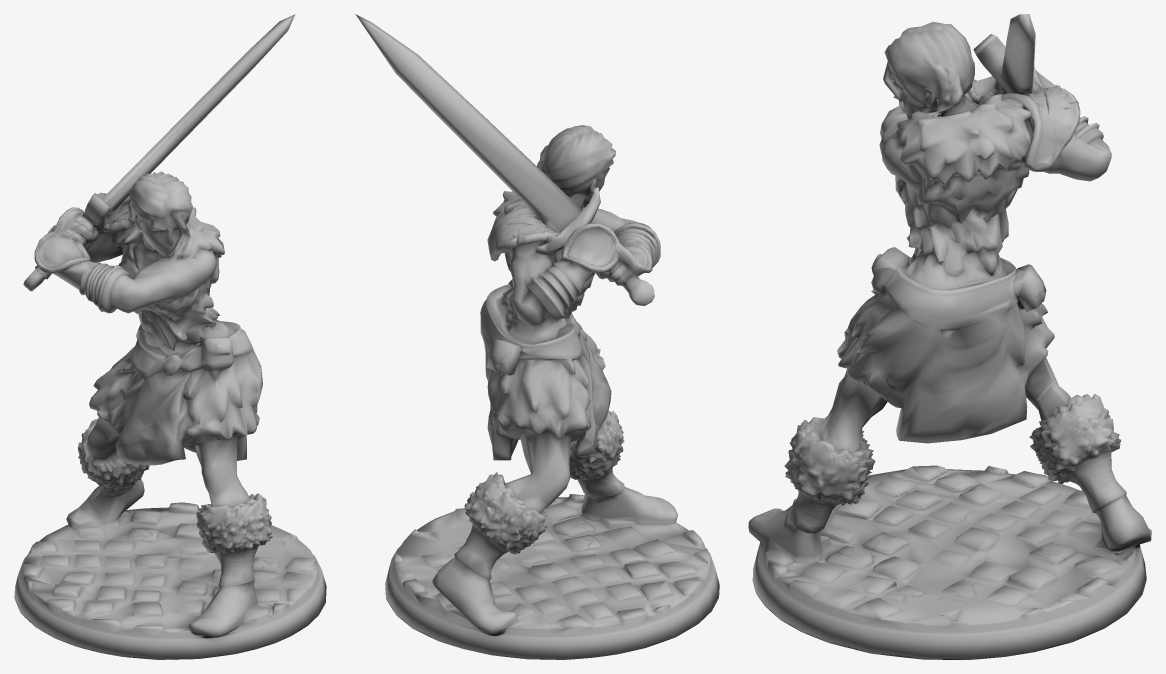
3 renders of one model, left to right at view 1: azimuth 30°, elevation 25°; view 2: azimuth 150°, elevation 25°; view 3: azimuth 270°, elevation 25°, orthographic. The views are drawn at different scales.
Parts seen in each view (by area): view 1: token; view 2: token; view 3: token.
Boxes of the visible parts, box(x1,y1,x2,y2) form: token: box(14, 14, 326, 659); token: box(355, 14, 719, 659); token: box(748, 14, 1151, 659).
Size of the model in its own units: 1.09 by 1.86 by 1.04.
1 material, 1 textured.
